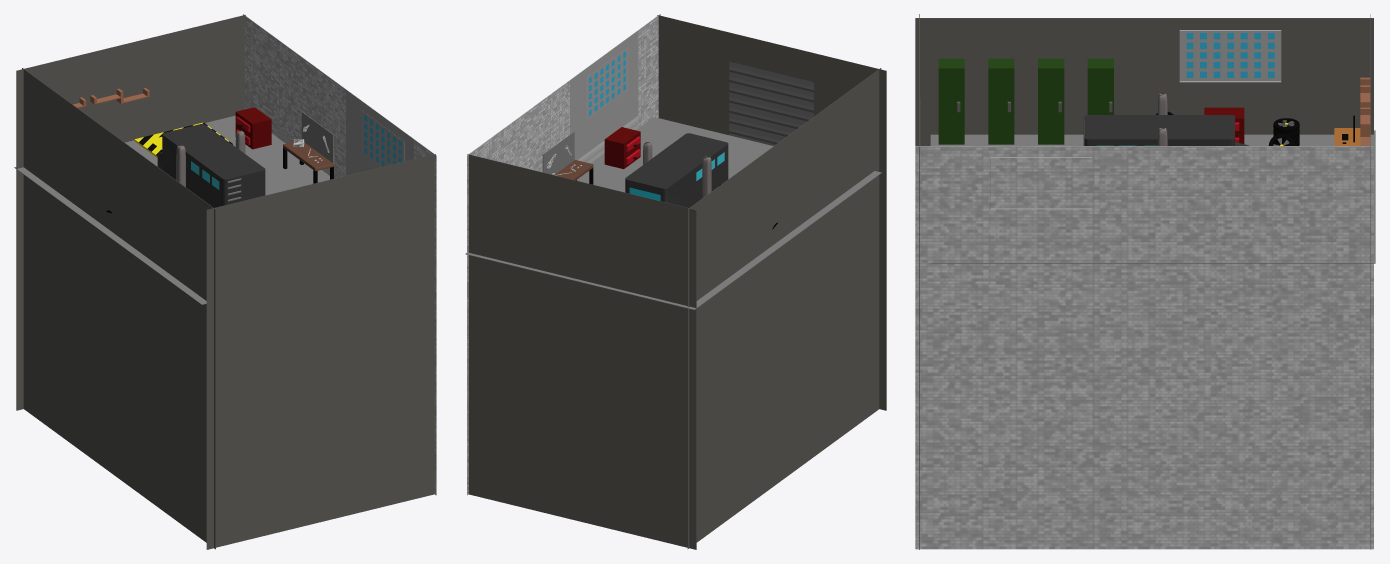
The model's file is garage (2).fbx.
3 views of the same model, side by side, from view 1: azimuth 30°, elevation 25°; view 2: azimuth 150°, elevation 25°; view 3: azimuth 270°, elevation 25° (orthographic). The views are drawn at different scales.
Visible parts, largest first — view 1: floor.004, floor.005, floor.002, floor.003, Cube.057, floor, Cube.036, Cube.020, Cube.032, Cube.027, Cube.035; view 2: floor.002, floor.005, floor.004, floor.003, floor, Cube.037, Cube.057, Cube.036, Cube.008, Cube.032, Cube.035; view 3: floor.003, floor.005, Cube.039, Cube.057, Cube.033, floor, Cube.034, Cube.021.
Part boxes in pixels (x1,y1,x2,y2): floor.004: (206, 154, 435, 549); floor.005: (22, 68, 215, 549); floor.002: (16, 15, 245, 410); floor.003: (243, 14, 436, 495); Cube.057: (157, 124, 265, 207); floor: (14, 115, 329, 304); Cube.036: (361, 110, 404, 167); Cube.020: (235, 107, 271, 149); Cube.032: (301, 112, 333, 163); Cube.027: (283, 142, 333, 171); Cube.035: (364, 115, 401, 166); floor.002: (467, 154, 696, 549); floor.005: (687, 68, 881, 548); floor.004: (657, 15, 886, 410); floor.003: (467, 14, 660, 495); floor: (465, 117, 881, 310); Cube.037: (729, 61, 813, 145); Cube.057: (625, 133, 728, 207); Cube.036: (586, 46, 628, 120); Cube.008: (604, 127, 640, 169); Cube.032: (542, 131, 574, 174); Cube.035: (589, 51, 625, 115); floor.003: (915, 146, 1373, 549); floor.005: (915, 18, 1373, 145); Cube.039: (938, 58, 1113, 144); Cube.057: (1084, 115, 1247, 145); Cube.033: (1179, 30, 1281, 82); floor: (930, 130, 1375, 263); Cube.034: (1186, 33, 1274, 77); Cube.021: (1204, 107, 1244, 143).
Size of the model in its own units: 2406 by 3400 by 3519.
